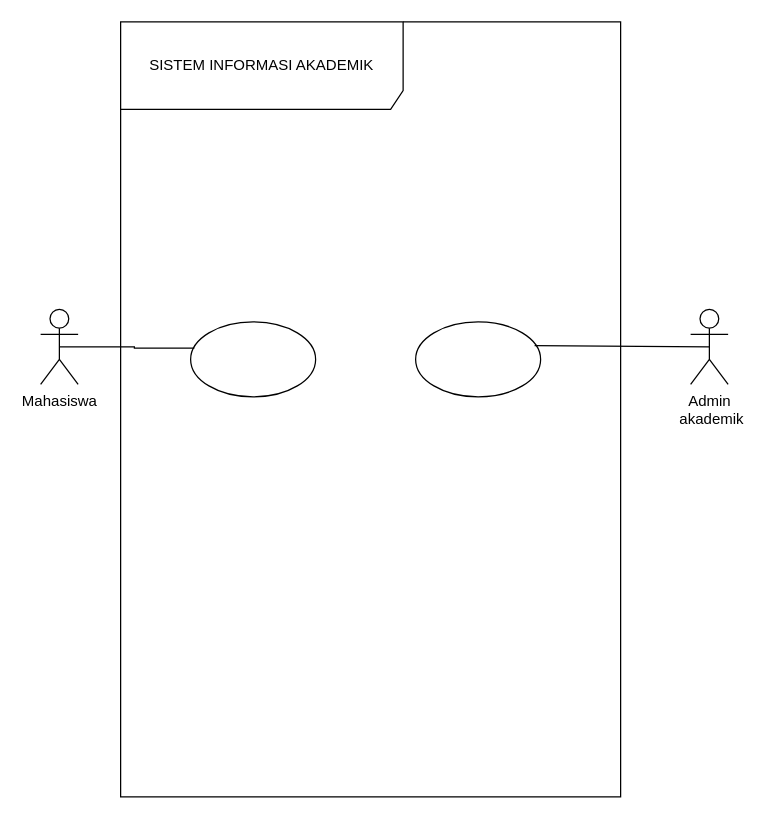
Some shapes in this 765 by 819 pixel diagram are drawn without their labels. Here are the shapes that lost their labels. From the top down, the centre of each, then its label:
point (252, 359): Lihat jadwal kuliah
point (477, 359): kelola data peralatan
